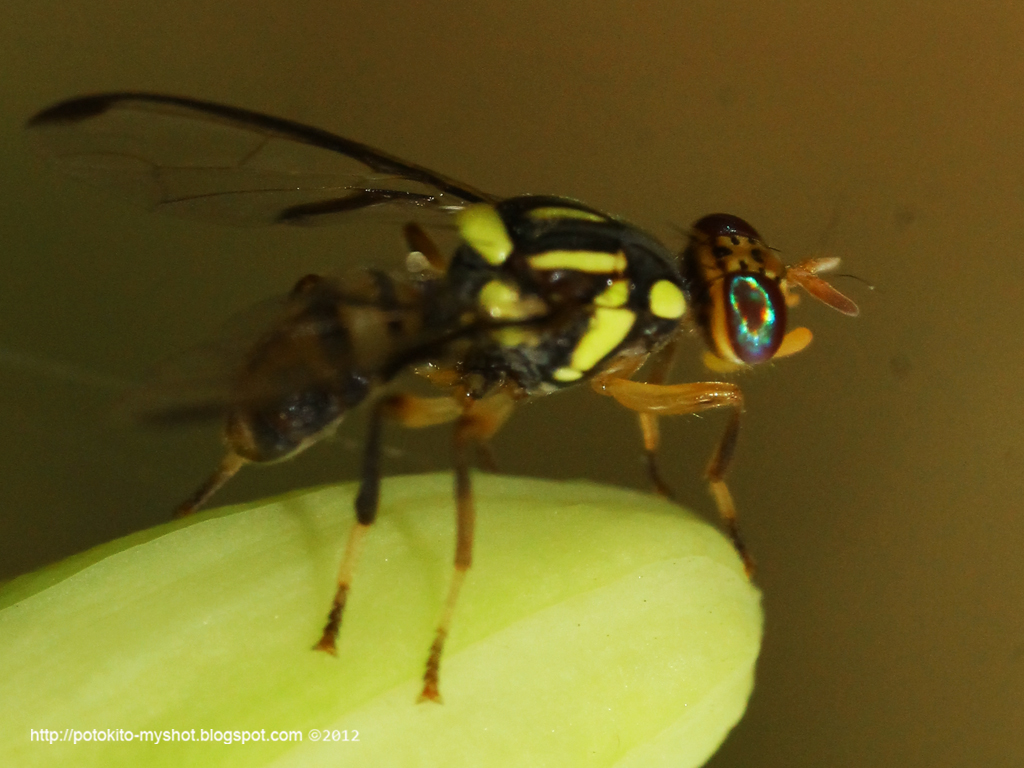Fruit fly: (232, 120, 852, 634)
